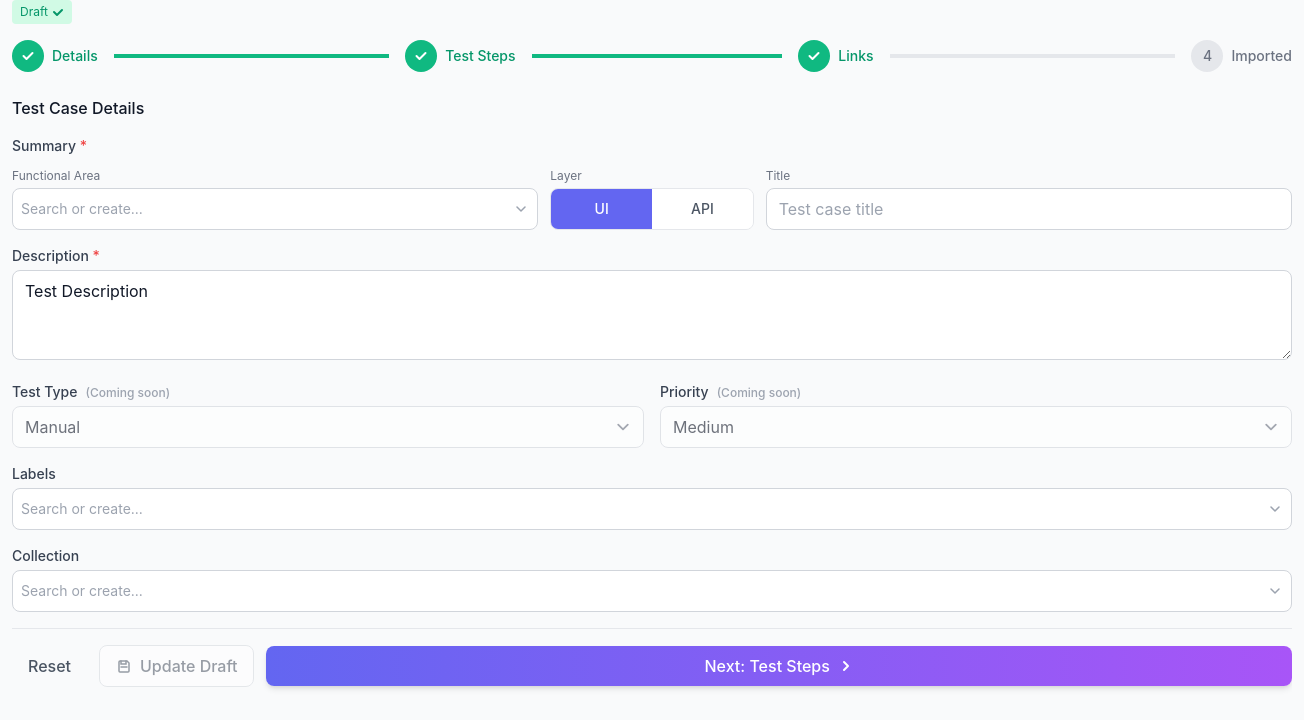
it: TestCaseForm › should navigate through all steps and show import button
The width and height of the screenshot is (1304, 720).
Note: Navigate to Step 3 (data is pre-filled)
Click the button "Next: Test Steps" at x=779, y=666, box left=266, top=646, right=1292, bottom=686
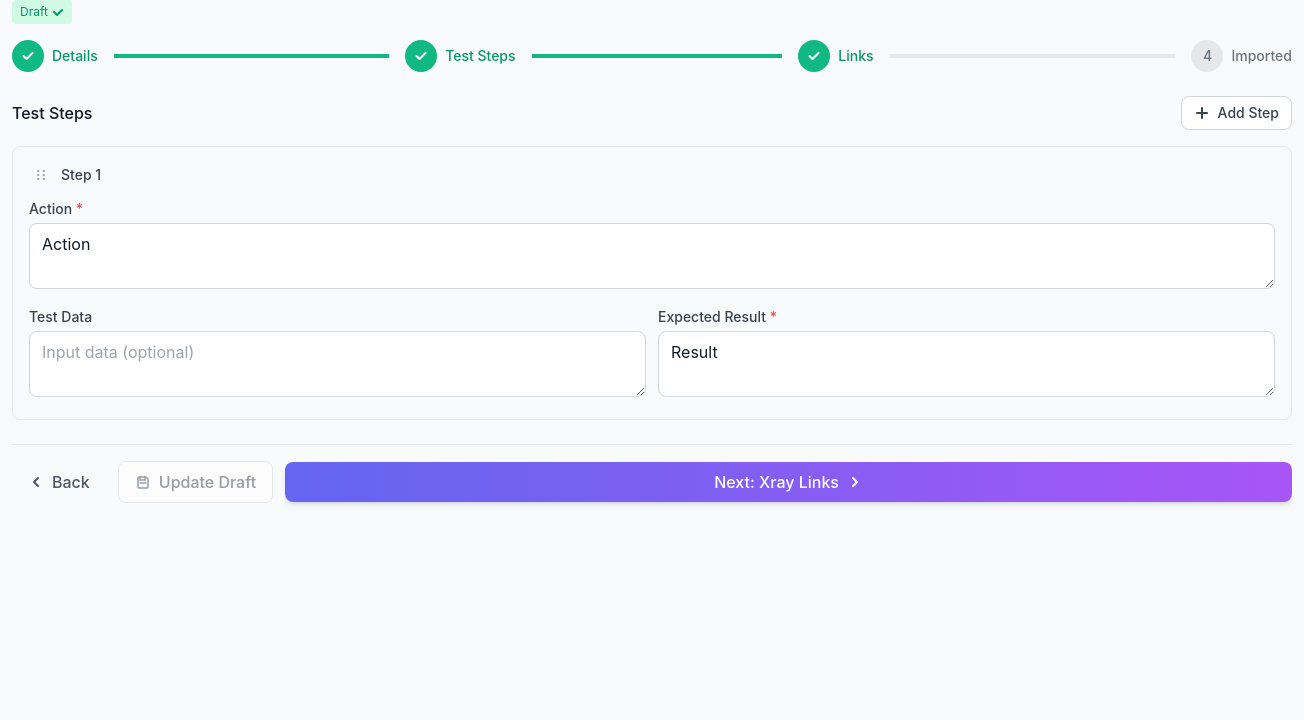
Click the button "Next: Xray Links" at x=789, y=482, box left=285, top=462, right=1292, bottom=502
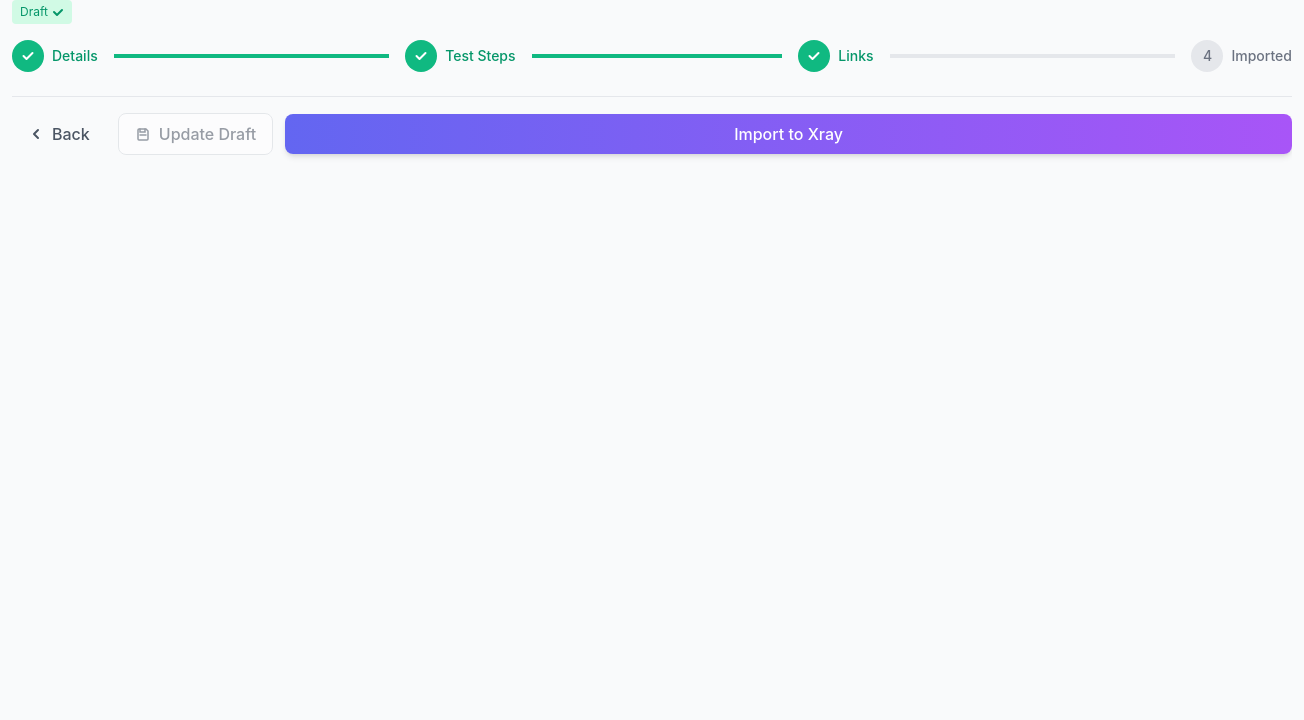
Expected: the button "Import to Xray" is shown, left=285, top=114, right=1292, bottom=154
